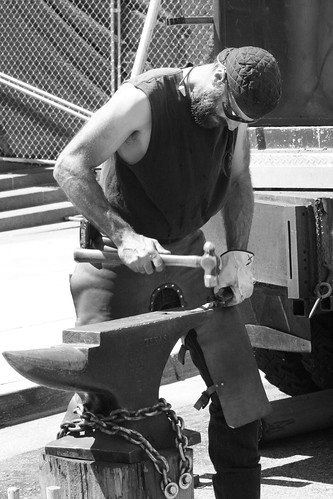hammer: (74, 240, 221, 291)
